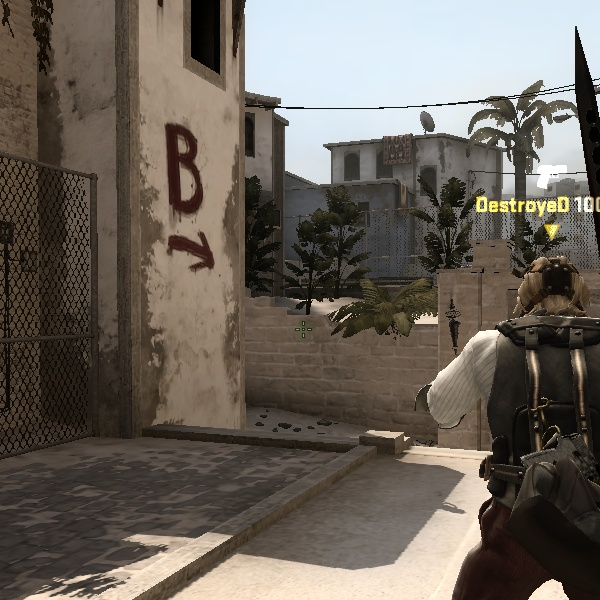t_body: (437, 243, 593, 600)
t_head: (501, 249, 594, 332)
